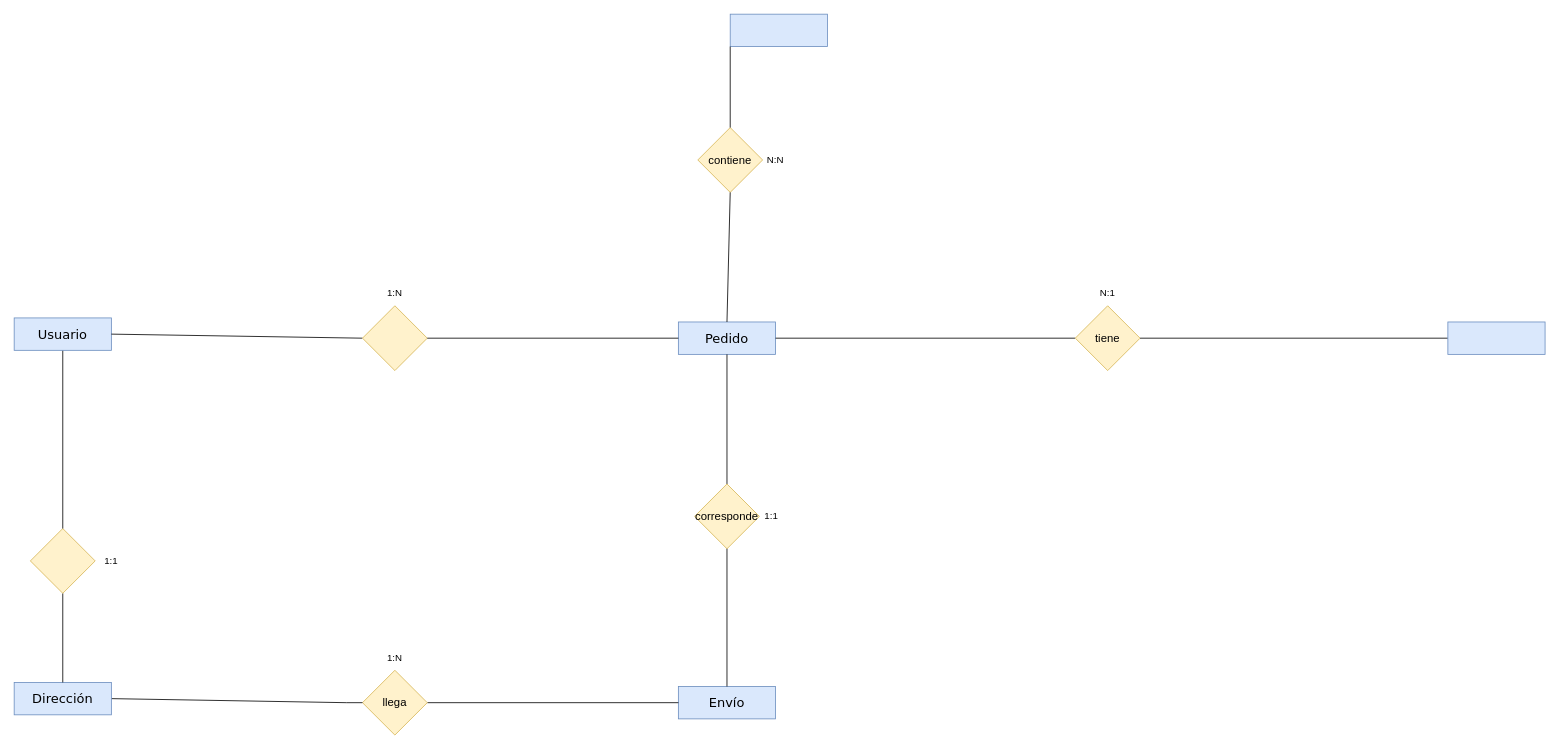
The diagram is 1559 pixels wide and 749 high, and some of its shapes have lost their labels. The centre of each missing label's shape, as x and y in pixels:
"Método de pago" belongs at (x=1496, y=337).
"Producto" belongs at (x=778, y=30).
"realiza" belongs at (x=394, y=338).
"registra" belongs at (x=62, y=560).
